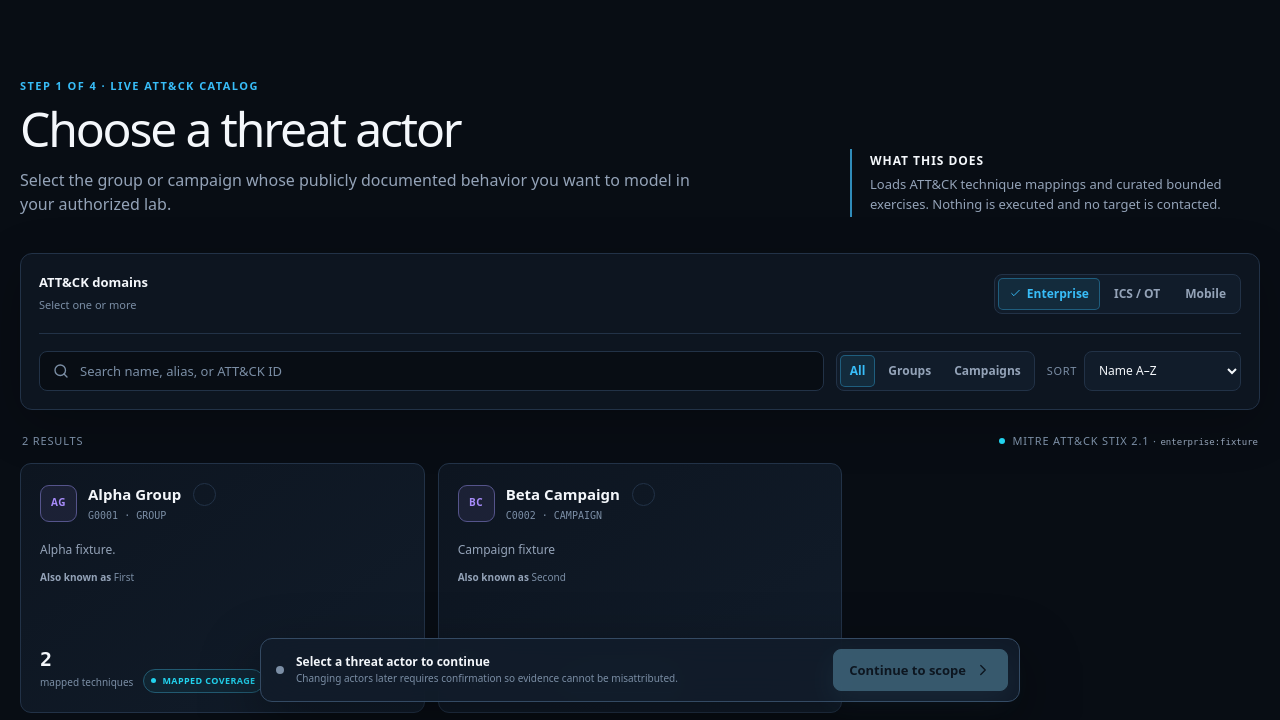
it: ActorGallery › searches actor names and strips source markdown from summaries
Expected: the text "Alpha fixture." is shown, [40, 540, 115, 560]
In the search field named "Search actors": (446, 371) [70, 352, 823, 390], type "Second"
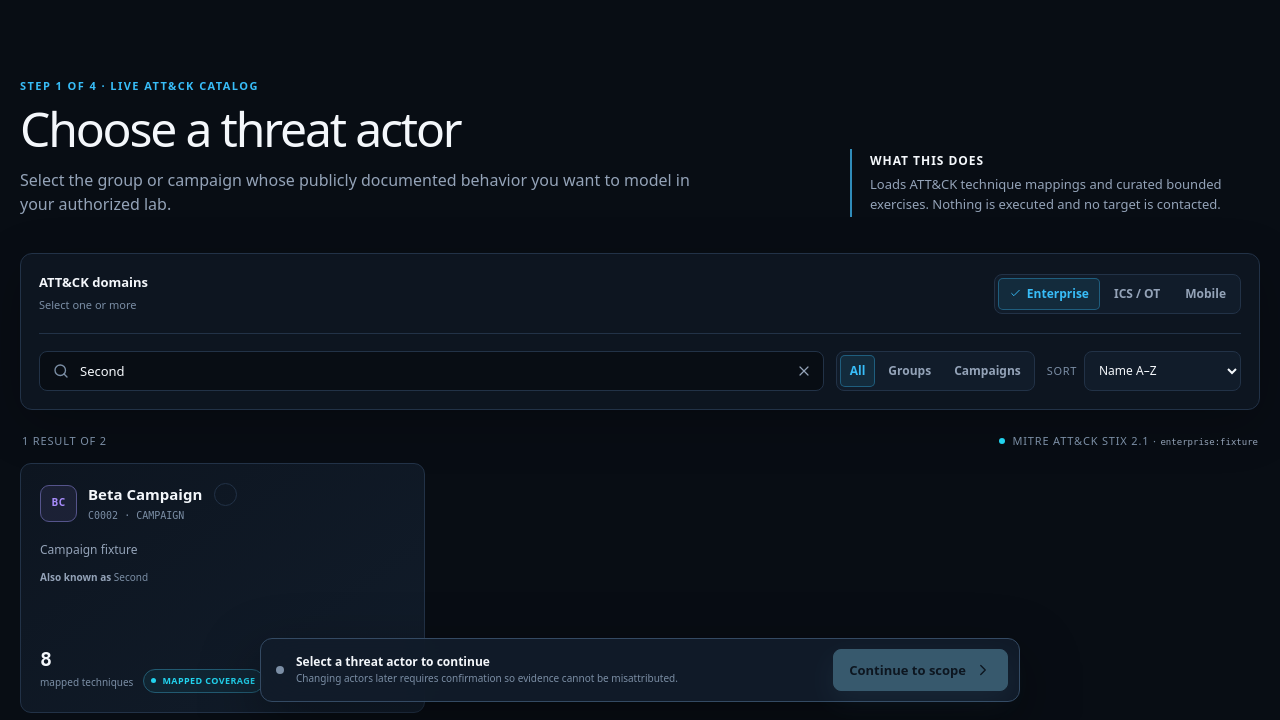
Expected: the button "Beta Campaign" is shown, [20, 463, 425, 713]
Expected: the button "Alpha Group" is gone
